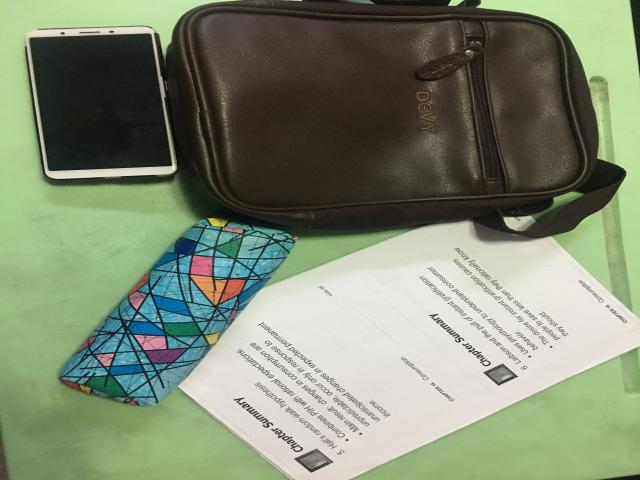Mobile phone: (27, 26, 177, 180)
paper: (180, 197, 638, 480)
